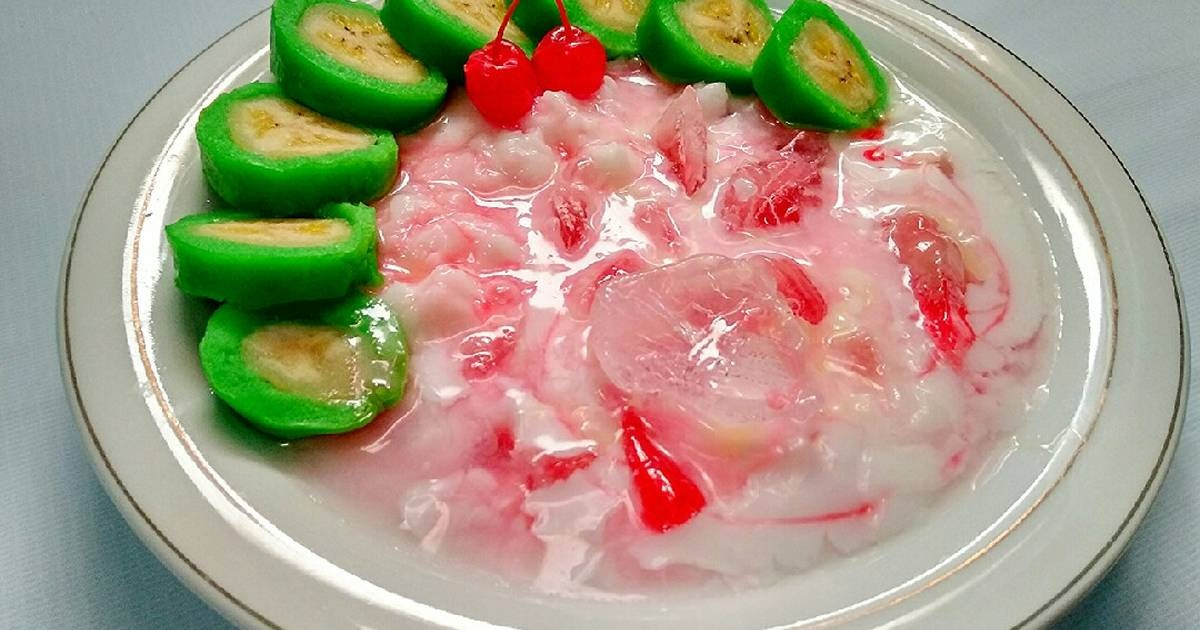pisang_ijo: (758, 13, 901, 139)
